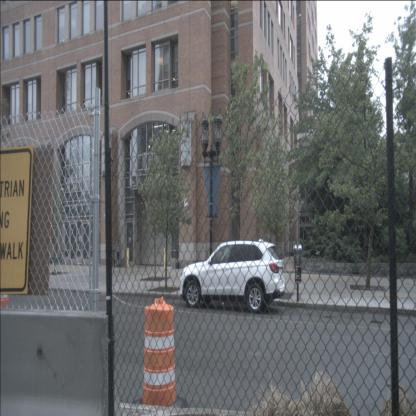movable_object-trafficcone: (131, 296, 188, 414)
vehicle-car: (180, 239, 285, 313)
